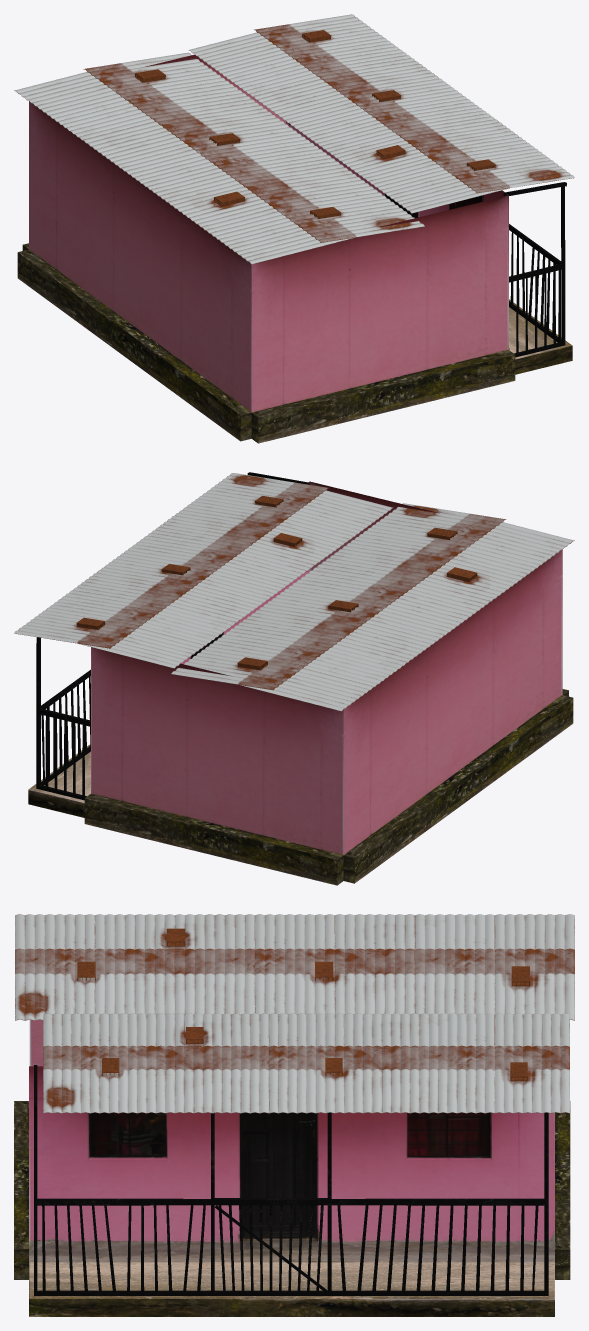
File: casa_derecha_17B.fbx
3 views of the same model, one above another, from view 1: azimuth 30°, elevation 25°; view 2: azimuth 150°, elevation 25°; view 3: azimuth 270°, elevation 25° (orthographic). The views are drawn at different scales.
Parts seen in each view (by area): view 1: Techo 17.001, casa_derecha_17B.006, casa_derecha_17B.005, casa_derecha_17B.002, casa_derecha_17B.001; view 2: Techo 17.001, casa_derecha_17B.004, casa_derecha_17B.005, casa_derecha_17B.002, casa_derecha_17B.001, casa_derecha_17B.006; view 3: Techo 17.001, casa_derecha_17B.001, casa_derecha_17B.002, casa_derecha_17B.004, casa_derecha_17B.006, casa_derecha_17B.005.
Boxes of the visible parts, bbox=[...] form: Techo 17.001: bbox=[14, 14, 574, 264]; casa_derecha_17B.006: bbox=[251, 195, 515, 443]; casa_derecha_17B.005: bbox=[17, 101, 251, 441]; casa_derecha_17B.002: bbox=[288, 123, 566, 357]; casa_derecha_17B.001: bbox=[286, 121, 572, 374]; Techo 17.001: bbox=[14, 473, 574, 711]; casa_derecha_17B.004: bbox=[84, 647, 343, 885]; casa_derecha_17B.005: bbox=[343, 550, 573, 883]; casa_derecha_17B.002: bbox=[36, 472, 309, 800]; casa_derecha_17B.001: bbox=[28, 481, 309, 817]; casa_derecha_17B.006: bbox=[310, 481, 568, 696]; Techo 17.001: bbox=[15, 914, 574, 1113]; casa_derecha_17B.001: bbox=[29, 1066, 554, 1316]; casa_derecha_17B.002: bbox=[34, 1065, 548, 1295]; casa_derecha_17B.004: bbox=[555, 1101, 570, 1279]; casa_derecha_17B.006: bbox=[14, 1101, 28, 1279]; casa_derecha_17B.005: bbox=[29, 1019, 43, 1066].
Bounding box in the file's own units: 658 × 346 × 797.
